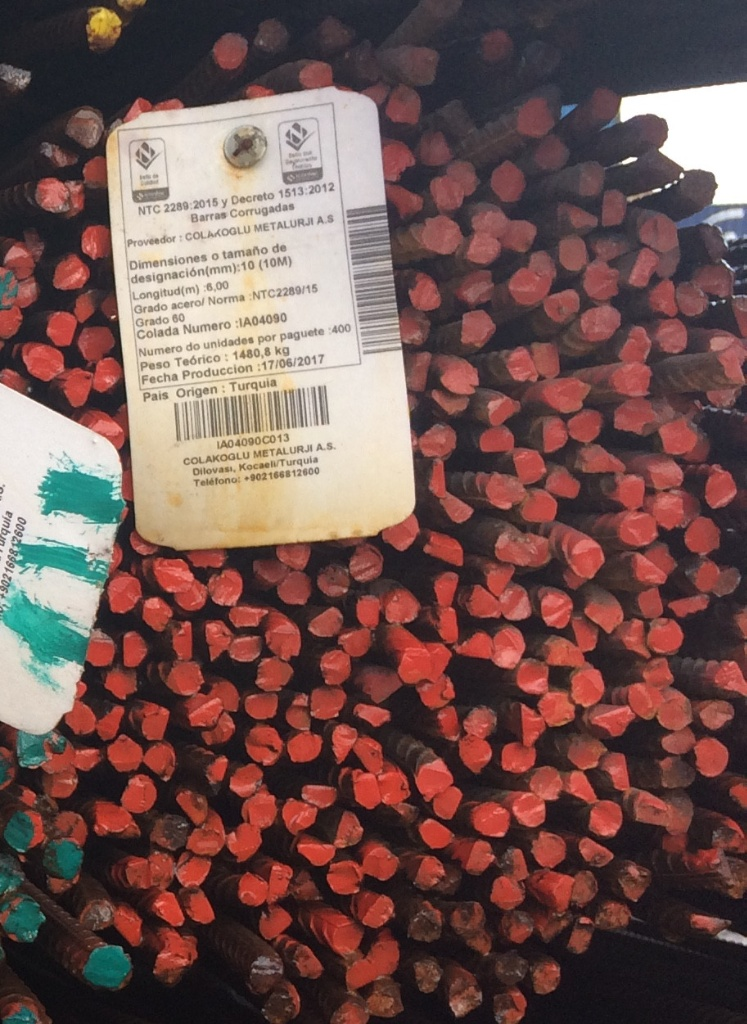dipstick: (81, 945, 132, 989), (495, 530, 549, 568), (676, 908, 729, 946), (5, 897, 45, 943), (93, 802, 141, 840), (399, 46, 443, 86), (613, 396, 658, 435), (86, 5, 122, 53), (157, 941, 196, 985), (377, 140, 416, 184), (610, 364, 657, 400), (151, 553, 192, 594), (684, 516, 723, 559), (629, 791, 672, 830), (16, 726, 54, 770), (119, 772, 158, 814), (704, 815, 747, 853), (695, 257, 735, 297), (439, 356, 480, 395), (584, 256, 621, 299), (103, 735, 143, 774), (4, 810, 46, 847), (545, 377, 590, 411), (226, 822, 264, 862), (659, 415, 697, 455), (245, 724, 282, 765), (618, 512, 659, 549), (564, 730, 605, 767), (695, 736, 729, 780), (579, 443, 627, 474), (360, 846, 399, 884), (502, 346, 540, 385), (704, 469, 739, 511), (26, 345, 64, 383), (413, 761, 451, 799), (51, 810, 91, 846), (259, 984, 295, 1024), (66, 106, 101, 147), (638, 214, 679, 249), (507, 267, 549, 301), (429, 386, 471, 420), (423, 533, 466, 566), (281, 797, 318, 835), (570, 540, 607, 578), (418, 420, 457, 456), (461, 308, 496, 348), (520, 487, 561, 521), (421, 217, 463, 250), (646, 617, 683, 654), (570, 668, 607, 705), (265, 620, 301, 658), (517, 98, 553, 136), (647, 458, 685, 494), (274, 570, 313, 605), (238, 792, 277, 827), (385, 587, 420, 626), (457, 271, 496, 306), (626, 681, 661, 720), (398, 305, 432, 345), (51, 255, 92, 288), (358, 891, 394, 928), (247, 954, 283, 991), (366, 667, 403, 703), (682, 168, 718, 205), (538, 690, 575, 726), (475, 801, 512, 837), (151, 812, 186, 850), (354, 737, 389, 775), (380, 515, 418, 550), (142, 743, 176, 782), (386, 85, 420, 124), (486, 473, 525, 507), (585, 598, 624, 632), (353, 38, 382, 83), (580, 304, 622, 335), (413, 675, 455, 706), (289, 944, 325, 980), (550, 202, 598, 229), (417, 128, 452, 165), (504, 217, 541, 252), (531, 905, 568, 940), (311, 683, 345, 721), (318, 649, 352, 687), (183, 887, 217, 925), (491, 162, 525, 200), (657, 753, 695, 787), (623, 615, 653, 658), (108, 576, 141, 615), (254, 658, 293, 691), (113, 907, 146, 946), (257, 905, 296, 938), (435, 100, 474, 133), (595, 704, 634, 737), (490, 991, 529, 1024), (328, 859, 363, 895), (535, 135, 571, 170), (630, 114, 667, 148), (214, 30, 247, 68), (576, 835, 614, 868), (617, 861, 650, 899), (545, 466, 584, 498), (502, 740, 541, 772), (183, 698, 223, 729), (675, 280, 706, 320), (331, 921, 366, 956), (442, 159, 477, 194), (512, 793, 547, 828), (588, 800, 623, 835), (168, 661, 204, 695), (176, 852, 212, 886), (399, 647, 433, 683), (407, 277, 443, 311), (492, 630, 525, 667), (567, 768, 600, 805), (350, 545, 382, 583), (696, 223, 728, 261), (650, 492, 682, 530), (418, 817, 456, 849), (186, 825, 225, 856), (351, 772, 382, 811), (542, 287, 581, 318), (540, 589, 571, 628), (637, 657, 676, 688), (542, 639, 585, 667), (295, 838, 335, 868), (229, 762, 263, 797), (513, 450, 548, 484), (514, 658, 549, 692), (699, 698, 734, 732), (531, 832, 565, 867), (36, 177, 69, 213), (92, 416, 125, 452), (208, 569, 241, 605), (152, 891, 185, 927), (466, 229, 502, 262), (656, 318, 689, 354), (646, 539, 678, 576), (142, 596, 173, 634), (65, 700, 96, 738), (591, 84, 622, 122), (539, 416, 570, 454), (616, 473, 647, 511), (518, 702, 546, 744), (644, 149, 683, 179), (478, 28, 512, 62), (389, 182, 423, 216), (449, 979, 482, 1014), (104, 668, 140, 700), (287, 731, 323, 763), (52, 839, 84, 875), (346, 955, 378, 991), (528, 41, 560, 77), (631, 553, 667, 585), (489, 877, 525, 909), (77, 326, 114, 357), (307, 607, 344, 638), (597, 190, 628, 227), (438, 491, 475, 522), (367, 987, 405, 1017), (205, 620, 232, 662), (588, 230, 630, 257), (624, 323, 651, 365), (297, 57, 336, 86), (335, 810, 364, 849), (322, 16, 356, 49), (292, 868, 325, 902), (466, 584, 499, 618), (529, 766, 562, 800), (79, 900, 114, 932), (718, 346, 746, 386), (330, 722, 356, 765), (178, 789, 209, 825), (315, 564, 351, 595), (557, 233, 588, 269), (200, 713, 237, 743), (122, 854, 152, 891), (370, 940, 400, 977), (531, 339, 561, 376), (464, 840, 494, 877), (228, 602, 269, 629), (148, 849, 175, 890), (299, 781, 337, 810), (354, 701, 393, 729), (627, 247, 653, 289), (255, 18, 288, 51), (569, 408, 602, 441), (530, 961, 563, 994), (4, 242, 36, 276), (499, 587, 533, 619), (459, 737, 491, 771), (176, 577, 207, 612), (210, 679, 241, 714), (237, 871, 268, 906), (424, 645, 455, 680), (716, 662, 747, 697), (409, 907, 440, 942), (457, 632, 493, 662), (472, 208, 509, 237), (483, 398, 520, 427), (569, 616, 598, 653), (654, 699, 691, 728), (201, 756, 227, 797), (674, 485, 700, 526), (1, 60, 32, 94), (81, 224, 112, 258), (84, 636, 115, 670), (91, 357, 121, 392), (463, 705, 498, 735), (493, 954, 528, 984), (227, 634, 263, 663), (650, 279, 678, 316), (52, 732, 75, 777), (407, 351, 432, 392), (668, 792, 693, 833), (431, 786, 463, 818), (498, 848, 530, 880), (485, 562, 516, 595), (47, 311, 76, 346), (75, 290, 104, 325), (141, 706, 170, 741), (424, 457, 448, 499), (603, 754, 631, 790), (576, 159, 603, 196), (436, 707, 463, 744), (450, 903, 487, 930), (525, 249, 558, 279), (499, 910, 529, 943), (410, 960, 440, 993), (668, 594, 711, 617), (66, 369, 92, 407), (339, 627, 373, 656), (288, 693, 313, 732), (269, 862, 292, 904), (251, 558, 291, 582), (379, 771, 411, 801), (43, 141, 77, 169), (413, 855, 441, 889), (570, 871, 598, 905), (82, 155, 109, 190), (660, 728, 696, 754), (634, 586, 665, 616), (432, 572, 461, 604), (277, 539, 310, 567), (96, 707, 124, 740), (186, 546, 226, 569), (172, 622, 196, 660), (355, 593, 381, 628), (595, 904, 630, 930), (122, 630, 147, 666), (480, 427, 516, 452), (694, 558, 719, 594), (246, 692, 277, 721), (435, 176, 463, 208), (703, 385, 743, 407), (571, 917, 594, 955), (49, 772, 78, 802), (545, 877, 573, 908), (435, 606, 459, 642), (461, 929, 493, 956), (656, 244, 681, 278), (331, 1002, 367, 1024), (437, 863, 461, 896), (65, 179, 86, 216), (718, 567, 743, 598), (711, 330, 746, 352), (1, 304, 22, 340), (1, 859, 21, 896), (76, 745, 101, 774), (389, 799, 418, 824), (128, 529, 158, 553), (1, 745, 15, 794), (17, 277, 39, 308), (1, 267, 17, 309), (544, 84, 565, 116), (362, 82, 386, 108)
